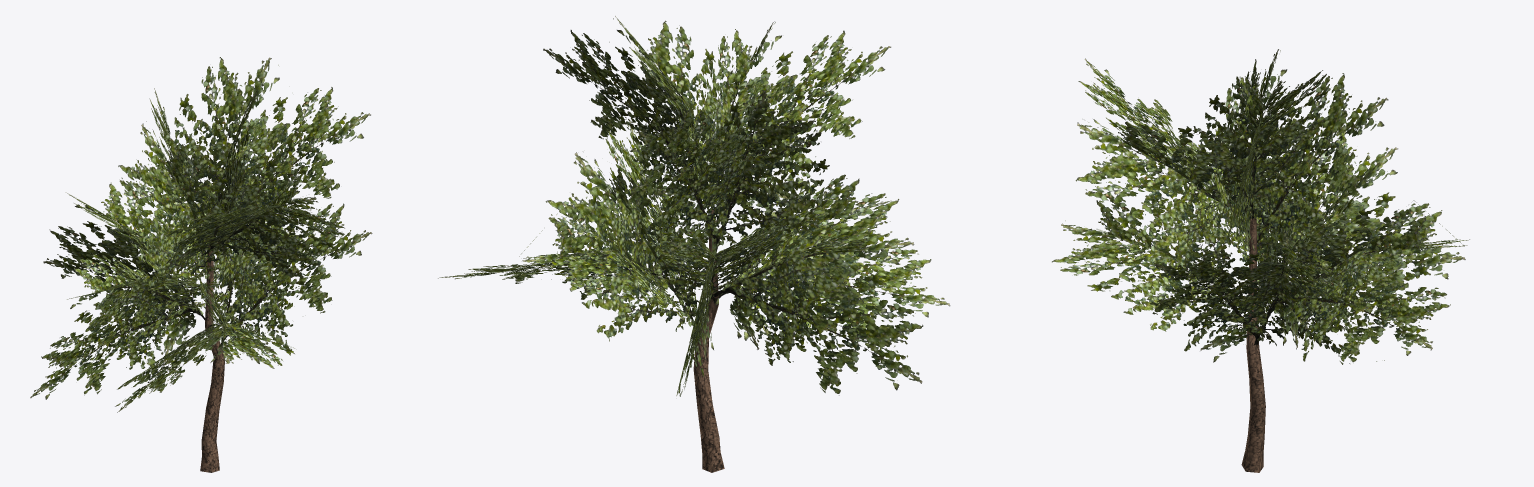
The model's file is bake1.fbx.
3 renders of one model, left to right at view 1: azimuth 30°, elevation 25°; view 2: azimuth 150°, elevation 25°; view 3: azimuth 270°, elevation 25°, orthographic. The views are drawn at different scales.
Visible parts, largest first — view 1: Tree; view 2: Tree; view 3: Tree.
Part boxes in pixels (box(x1,y1,x2,y2)): Tree: box(30, 57, 372, 472); Tree: box(438, 16, 950, 472); Tree: box(1052, 49, 1469, 472).
Bounding box in the file's own units: 1373 × 1463 × 1503.
Materials: 1 (1 with a texture image).
